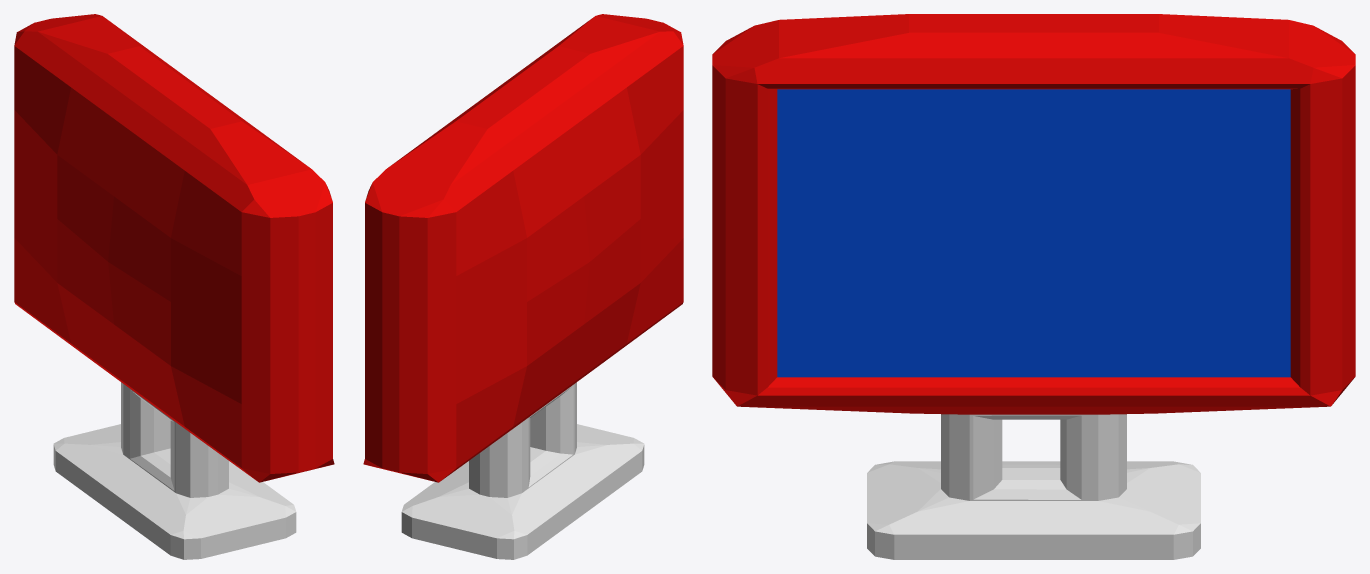
The model's file is Computer.fbx.
3 renders of one model, left to right at view 1: azimuth 30°, elevation 25°; view 2: azimuth 150°, elevation 25°; view 3: azimuth 270°, elevation 25°, orthographic. The views are drawn at different scales.
Parts seen in each view (by area): view 1: Computer; view 2: Computer; view 3: Computer.
Part boxes in pixels (<box>): Computer: <box>14,14,334,559</box>; Computer: <box>363,14,683,559</box>; Computer: <box>712,14,1355,559</box>.
Size of the model in its own units: 104 by 318 by 371.
